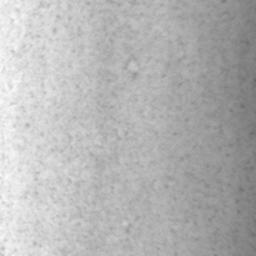Pitted surface: (0, 0, 195, 256), (168, 31, 185, 46)
